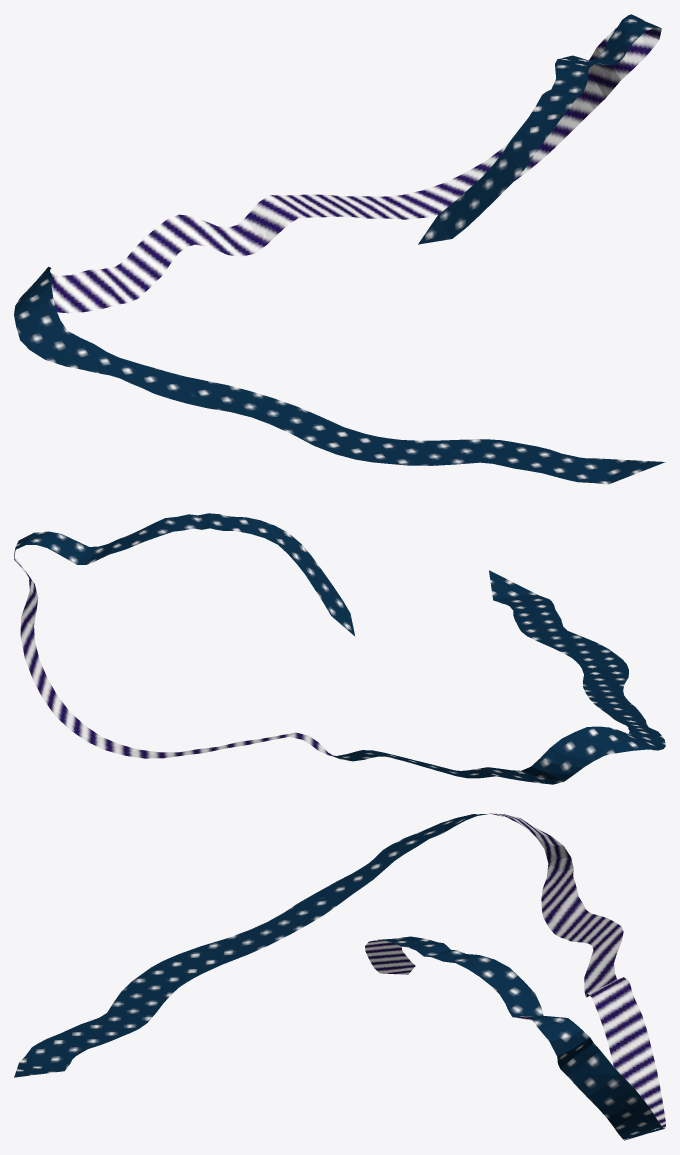
3 renders of one model, top to bottom at view 1: azimuth 30°, elevation 25°; view 2: azimuth 150°, elevation 25°; view 3: azimuth 270°, elevation 25°, orthographic. The views are drawn at different scales.
Parts seen in each view (by area): view 1: Mesh2; view 2: Mesh2; view 3: Mesh2.
Part boxes in pixels (<box>): Mesh2: <box>14,14,665,484</box>; Mesh2: <box>14,513,665,784</box>; Mesh2: <box>14,813,665,1140</box>.
Bounding box in the file's own units: 2.04 × 0.5633 × 1.7.
2 materials, 2 textured.
